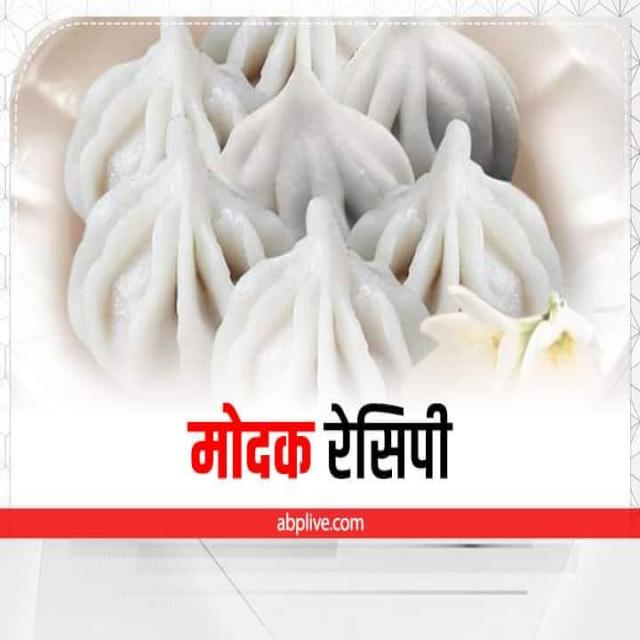modak: (122, 62, 468, 352)
